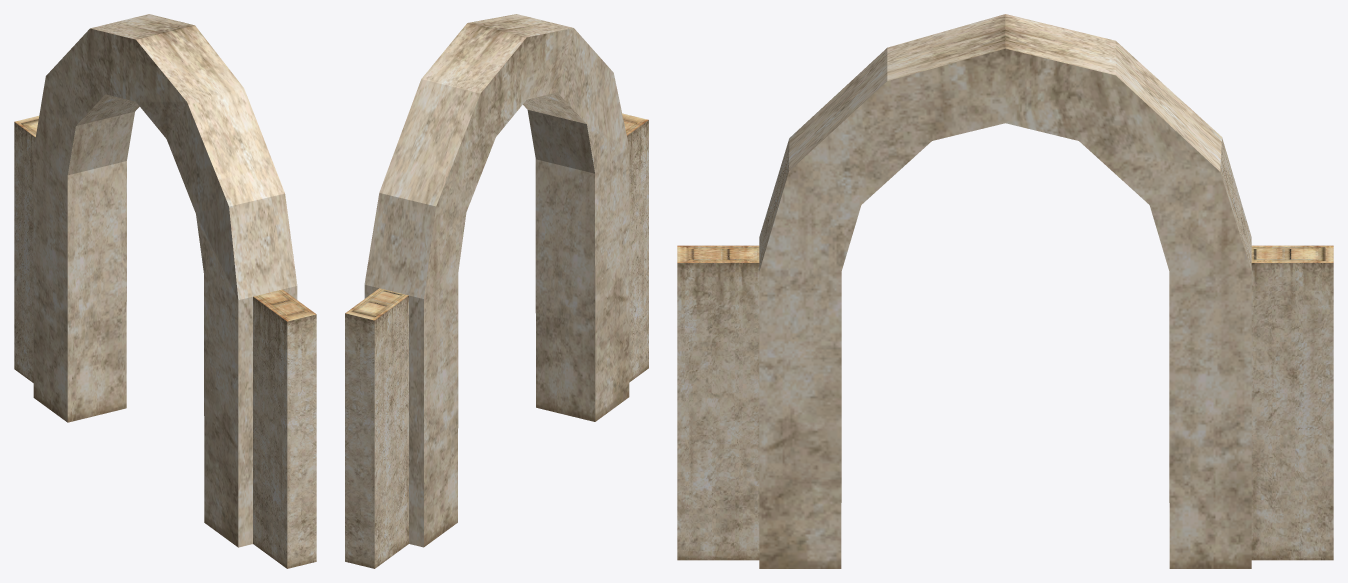
Rendered from thm_tato_imprv_archway_s01_l1.fbx.
The picture shows the model from 3 angles, left to right: view 1: azimuth 30°, elevation 25°; view 2: azimuth 150°, elevation 25°; view 3: azimuth 270°, elevation 25°; orthographic projection. The views are drawn at different scales.
Visible parts, largest first — view 1: mesh_node; view 2: mesh_node; view 3: mesh_node.
Boxes of the visible parts, x1,y1,x2,y2 form: mesh_node: (14, 14, 316, 568); mesh_node: (345, 14, 648, 568); mesh_node: (677, 14, 1333, 568).
Size of the model in its own units: 1 by 7 by 8.
